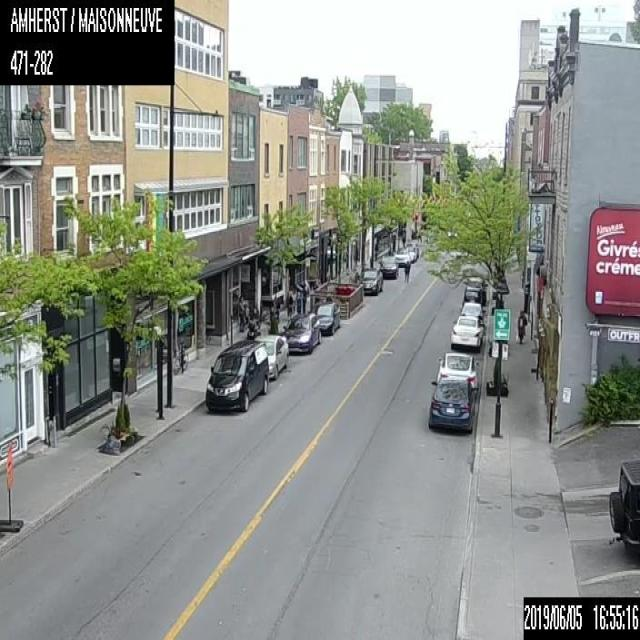pedestrian: (516, 308, 526, 345), (237, 294, 246, 330), (274, 296, 280, 322), (288, 292, 294, 316), (403, 260, 409, 283), (295, 290, 301, 312)
vehicle: (204, 340, 268, 412), (608, 458, 639, 556), (428, 376, 478, 433), (436, 351, 480, 393), (280, 312, 320, 352), (253, 334, 288, 378), (450, 314, 484, 350), (308, 301, 340, 334), (359, 267, 382, 294), (460, 301, 485, 324), (463, 276, 486, 300), (377, 255, 398, 277), (461, 285, 481, 306), (394, 248, 410, 265), (406, 246, 416, 260)
